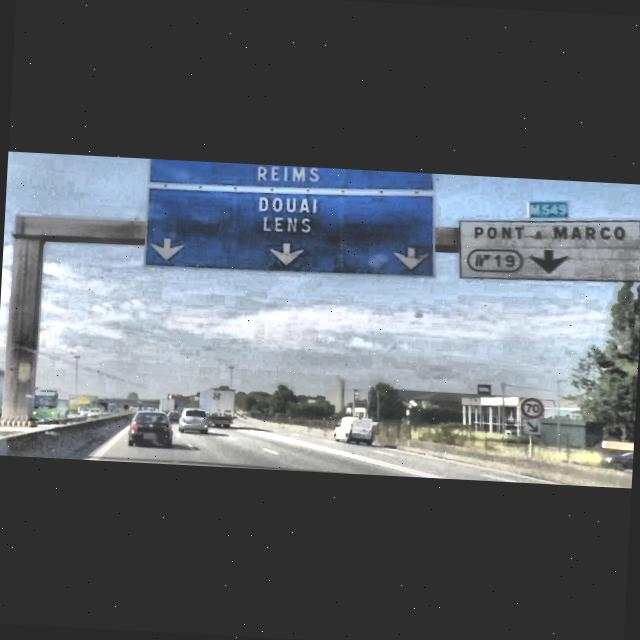speed_70: (520, 398, 545, 422)
